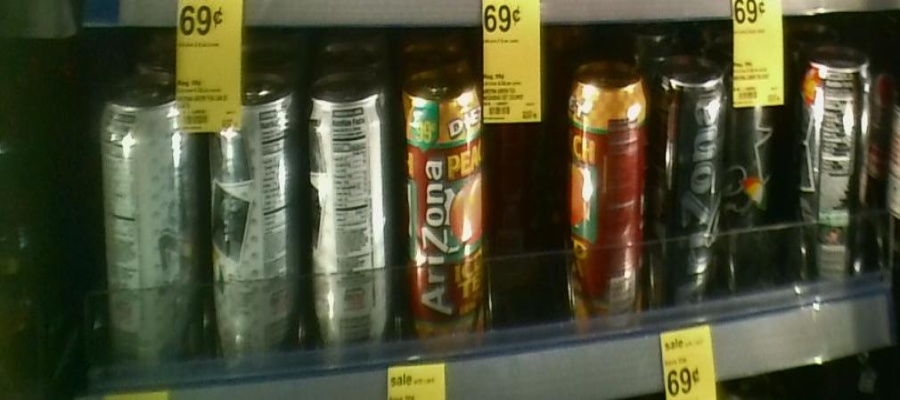bottle: (206, 68, 309, 380), (102, 78, 205, 379), (399, 64, 487, 362), (313, 61, 394, 372), (562, 64, 651, 335), (798, 48, 879, 296), (656, 56, 727, 324), (727, 51, 783, 313)
